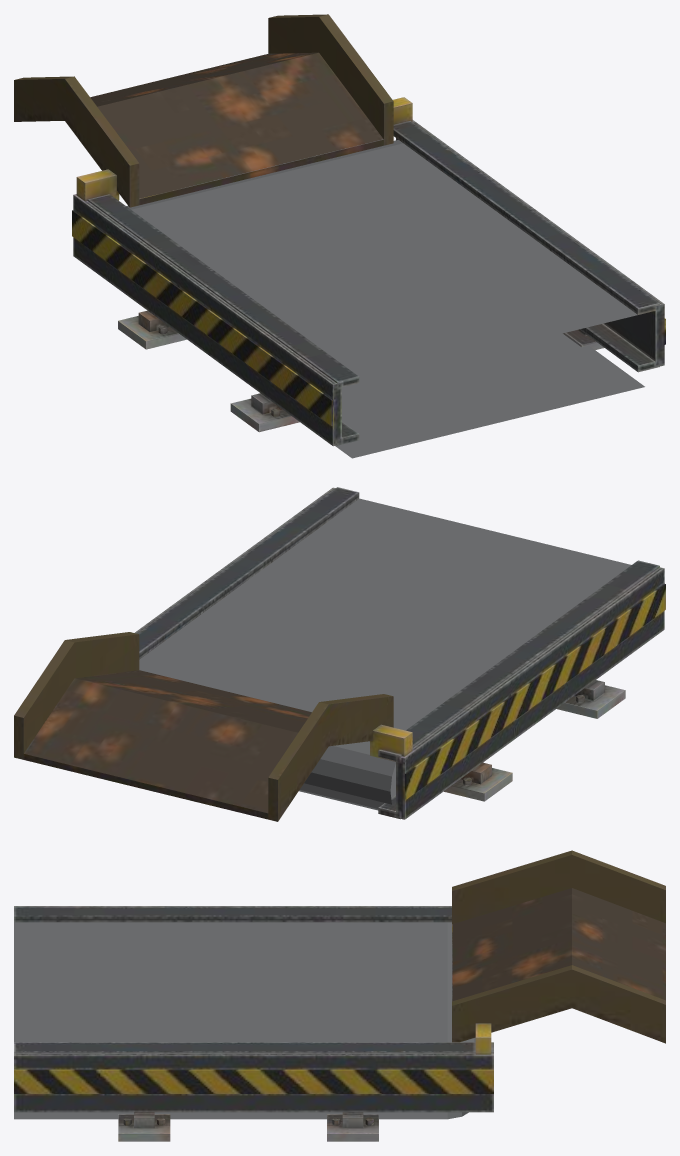
File: esteira_juncao.glb
The picture shows the model from 3 angles, top to bottom: view 1: azimuth 30°, elevation 25°; view 2: azimuth 150°, elevation 25°; view 3: azimuth 270°, elevation 25°; orthographic projection. The views are drawn at different scales.
Parts seen in each view (by area): view 1: esteira_juncao_corpo; view 2: esteira_juncao_corpo; view 3: esteira_juncao_corpo.
Part boxes in pixels (box(x1,y1,x2,y2)): esteira_juncao_corpo: box(14, 14, 665, 458); esteira_juncao_corpo: box(14, 487, 665, 821); esteira_juncao_corpo: box(14, 850, 665, 1141).
Size of the model in its own units: 0.75 by 0.315 by 1.25.
2 materials, 1 textured.
